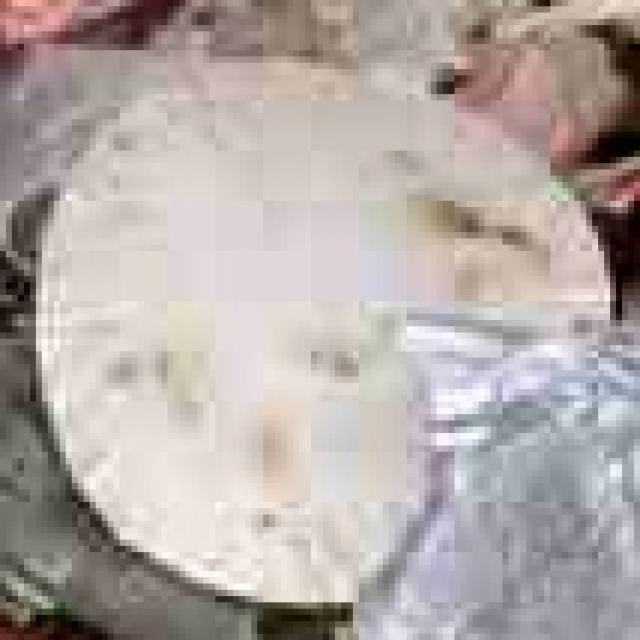giay: (42, 100, 616, 609)
kim_loai: (365, 307, 640, 637)
